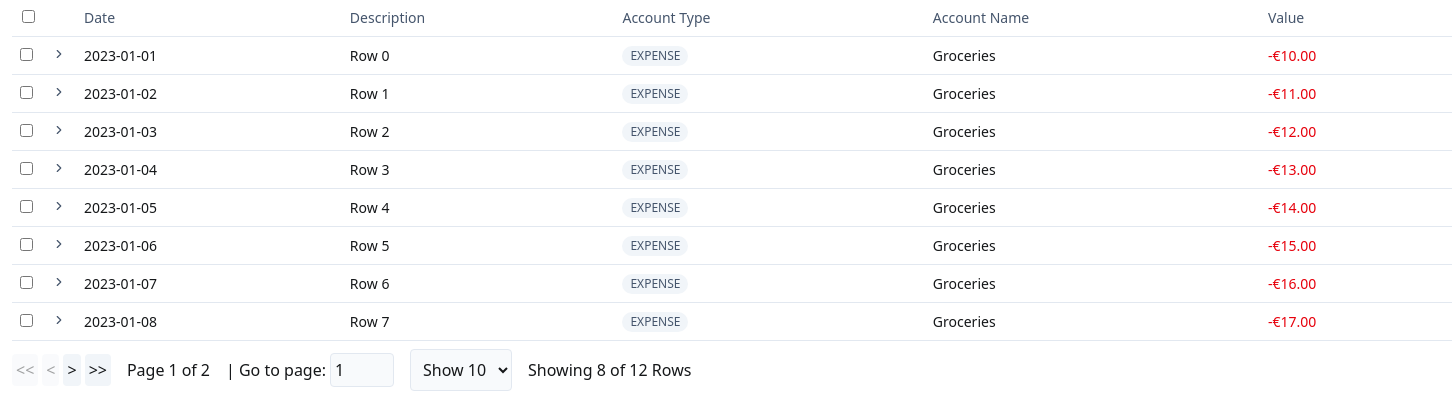
it: TransactTable › shows the next page of rows when the next-page control is clicked
Click the button ">". click: point(72, 370)
box: [64,354,81,386]
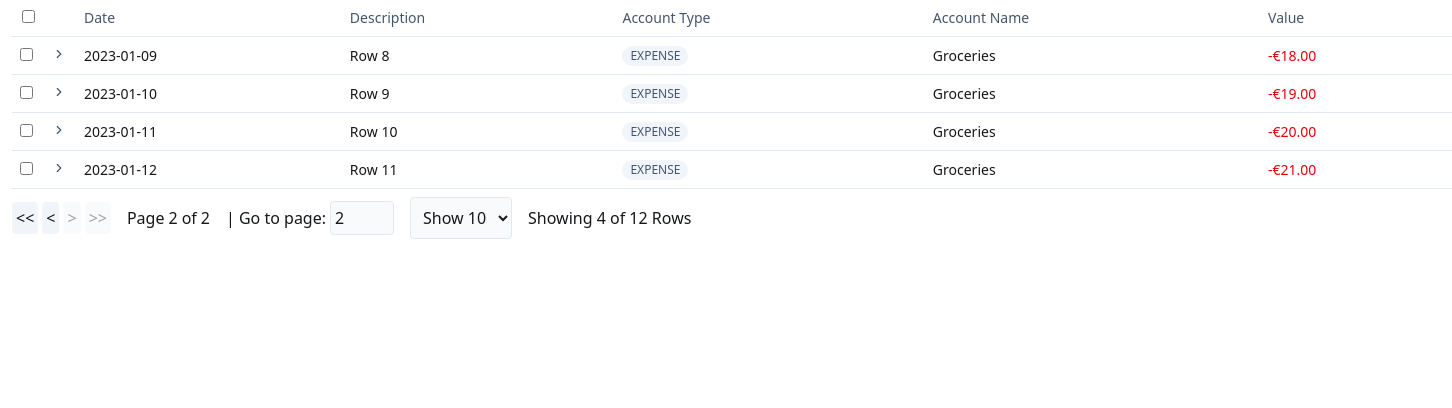
Now the text "Row 11" is shown, box [342,150,614,188]
